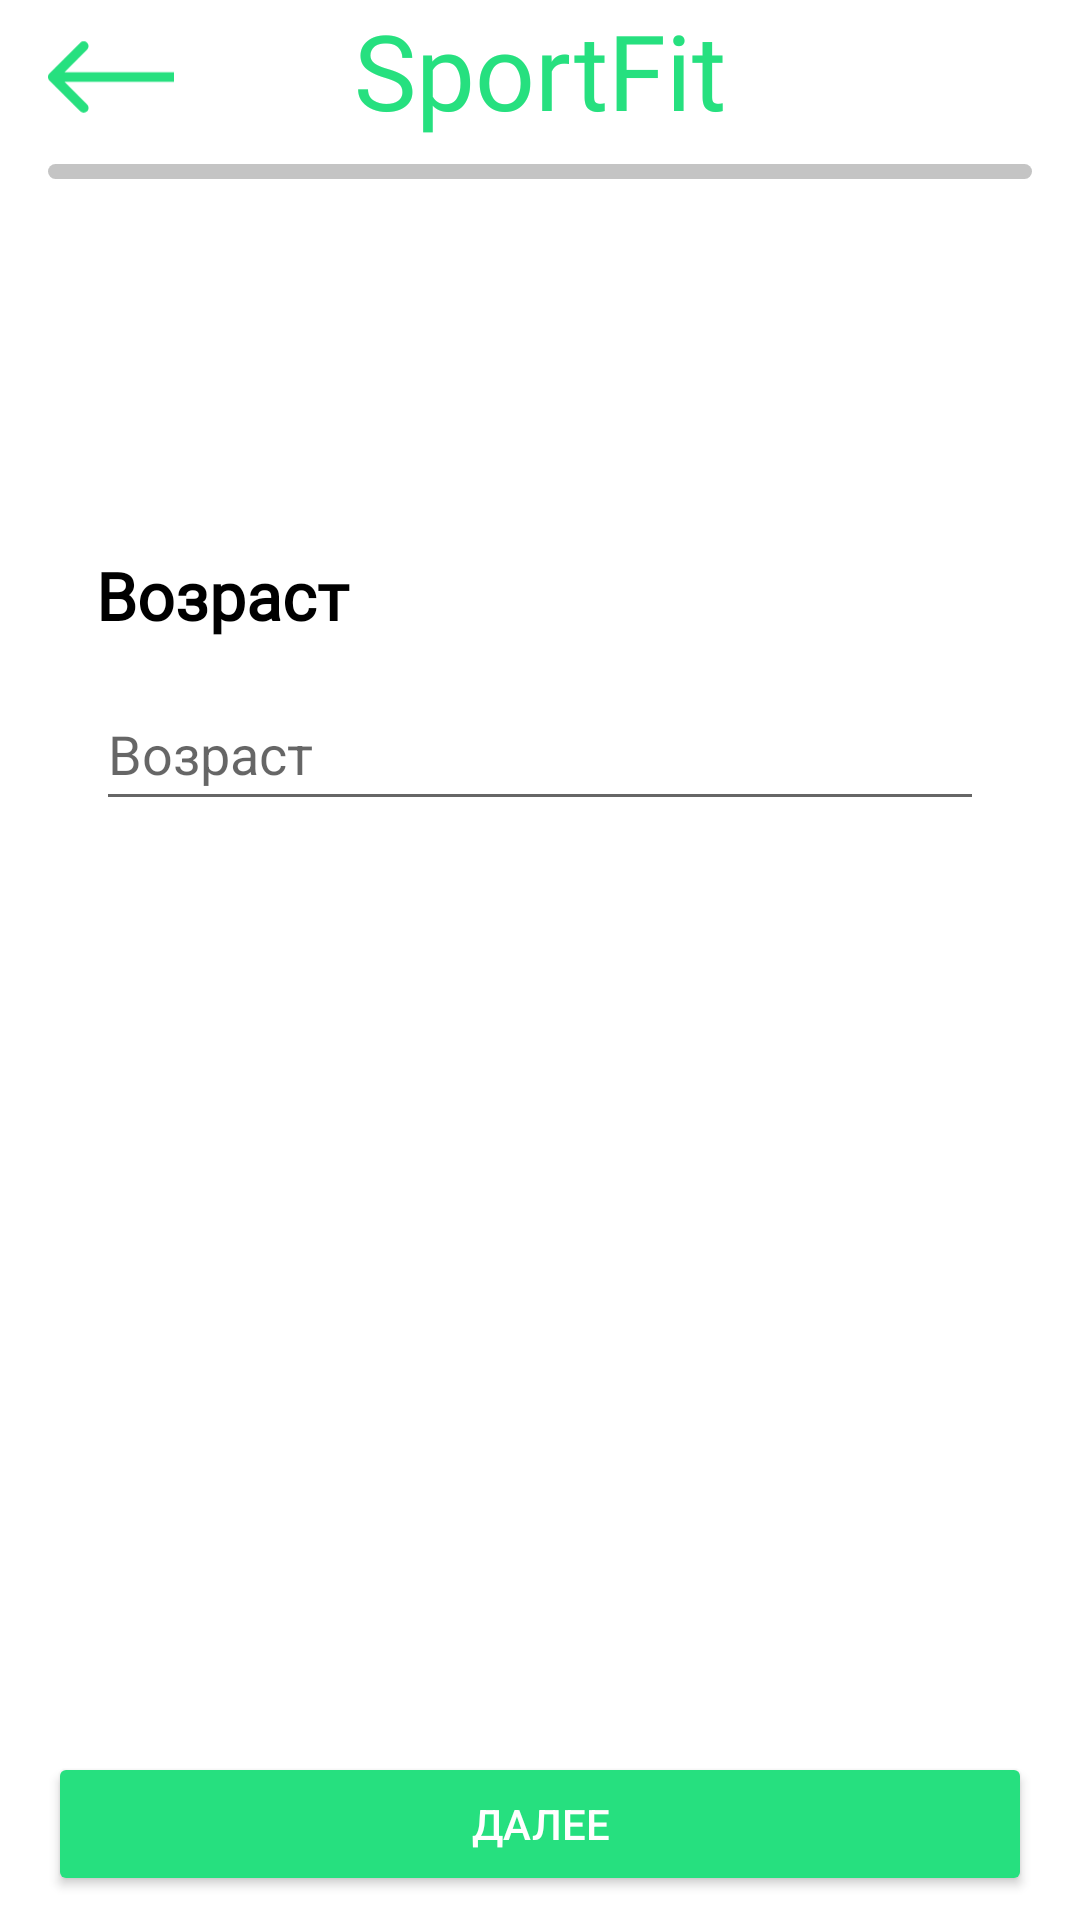

Where to tap for icons on this 1080*1920 app screen, as (x=x, y=y):
arrow: (x=111, y=77)
